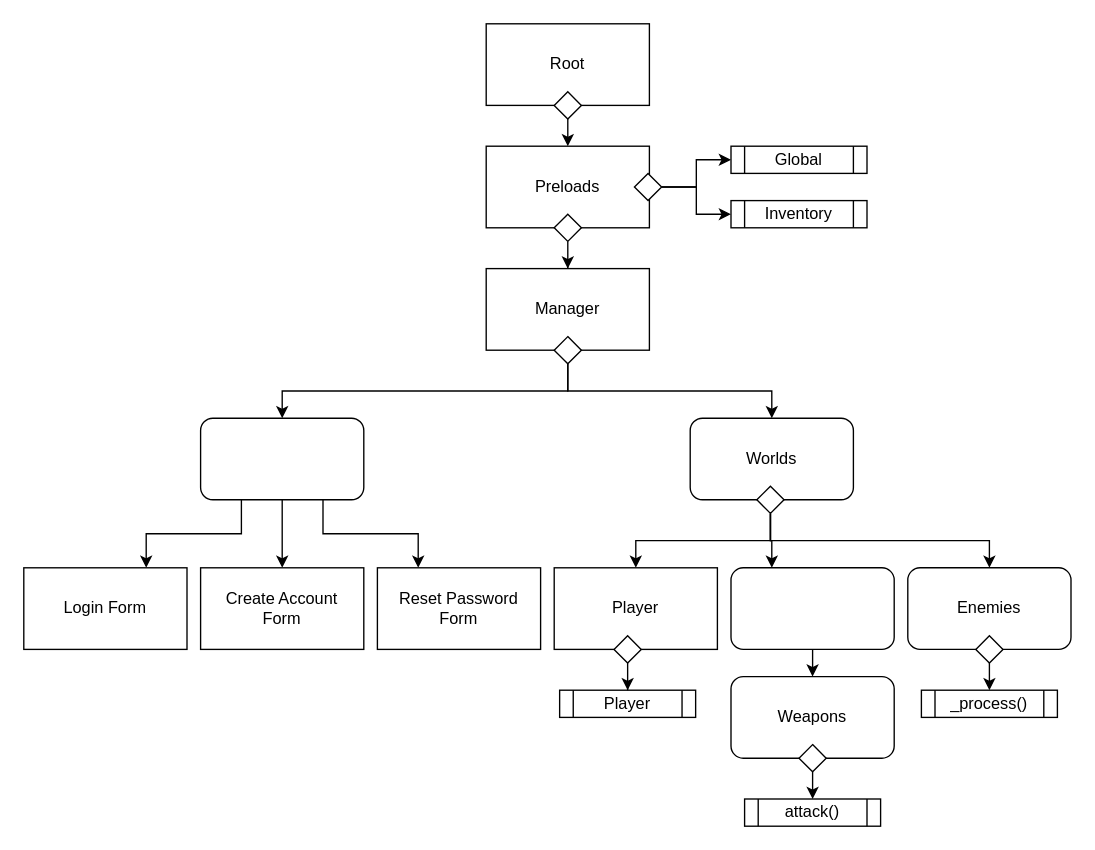
The diagram is 1095 pixels wide and 850 high, and some of its shapes have lost their labels. Each missing label, with the centre of its shape:
"Items" goes at point 812,607.
"Login Forms" goes at point 281,458.
